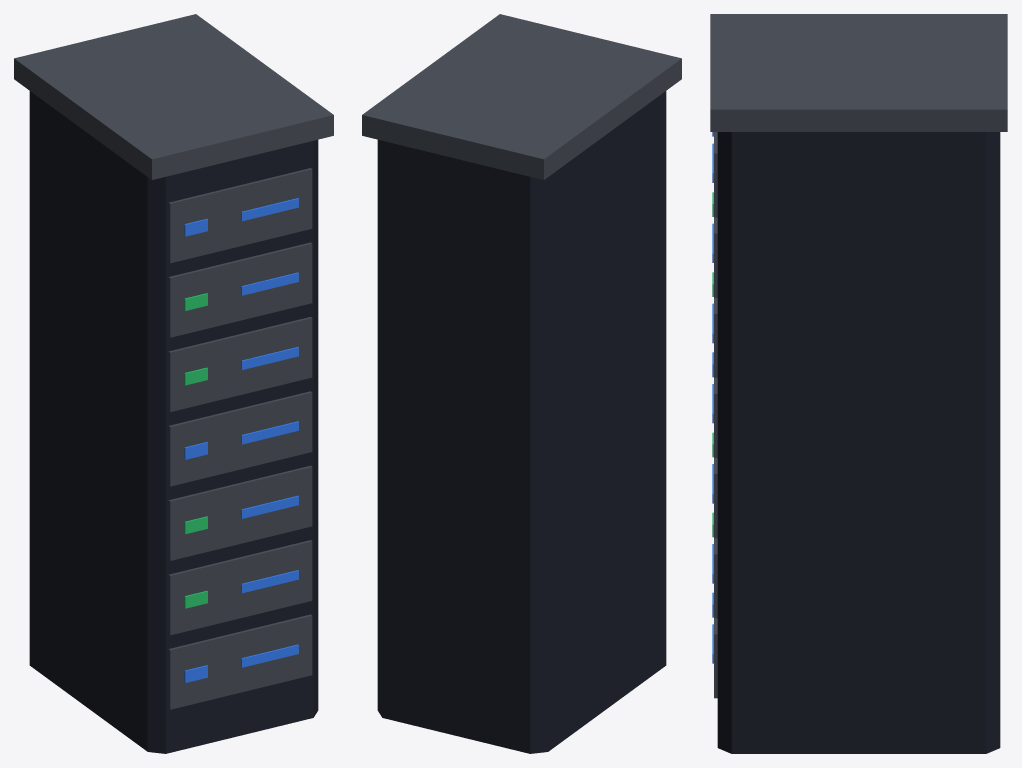
Rendered from server-rack.glb.
The picture shows the model from 3 angles, left to right: view 1: azimuth 30°, elevation 25°; view 2: azimuth 150°, elevation 25°; view 3: azimuth 270°, elevation 25°; orthographic projection. The views are drawn at different scales.
Parts seen in each view (by area): view 1: server_rack; view 2: server_rack; view 3: server_rack.
Boxes of the visible parts, box(x1,y1,x2,y2) form: server_rack: box(14, 14, 333, 753); server_rack: box(362, 14, 681, 753); server_rack: box(710, 14, 1007, 753).
Size of the model in its own units: 0.64 by 2.02 by 0.84.
